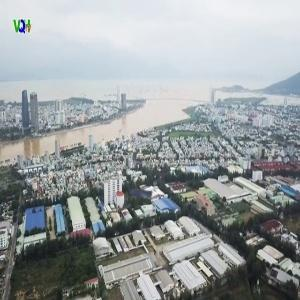drone: (109, 169, 171, 231)
